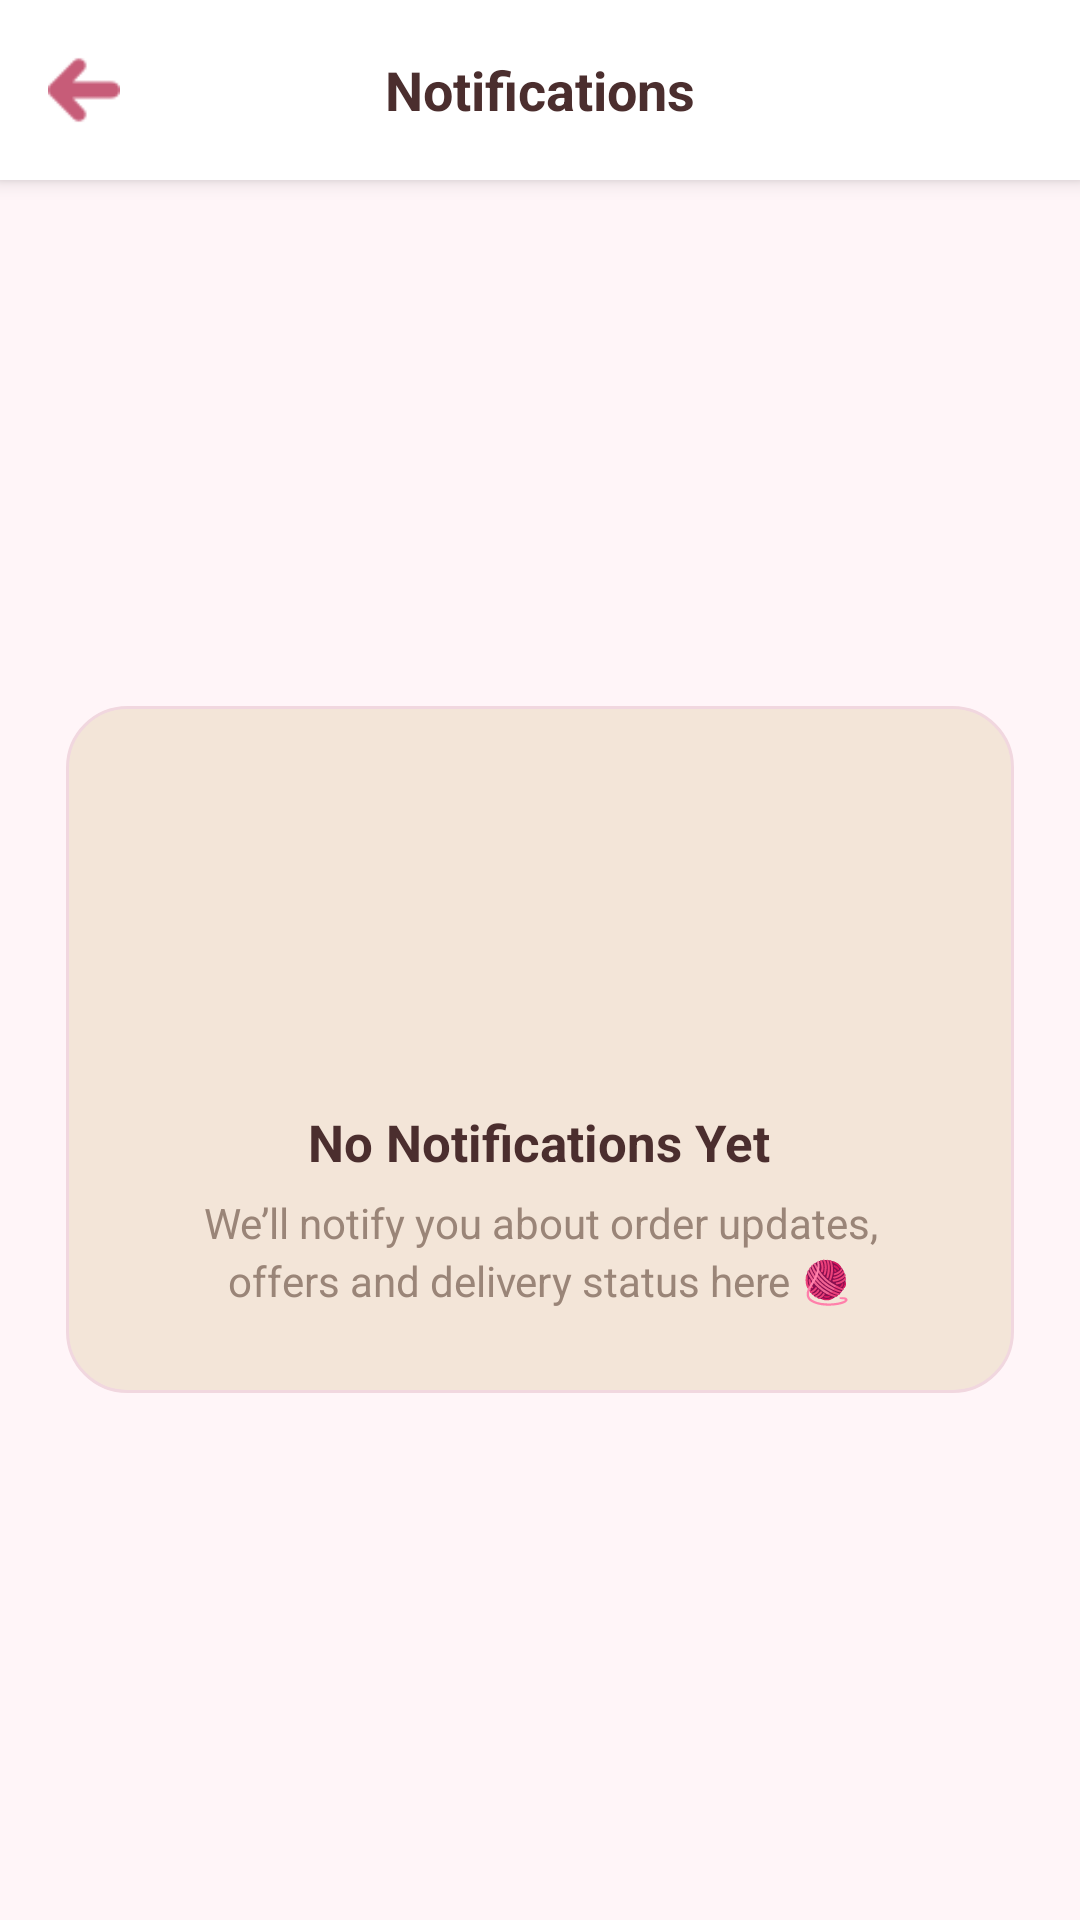

Where to tap for icons on this 1080px×1920px app screen, as (x,y):
Back: (84,90)
